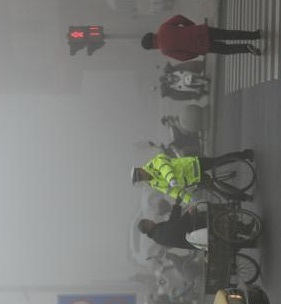person: (129, 152, 263, 203), (141, 14, 265, 61), (134, 207, 209, 251)
